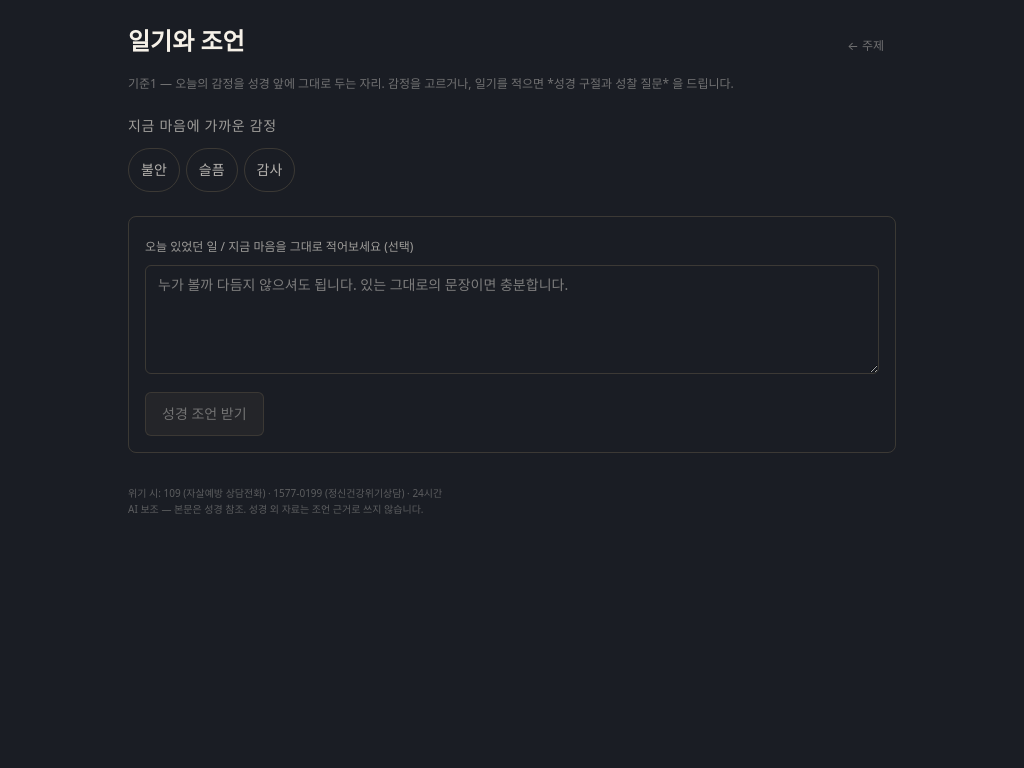
Test case: /topics/journal — R1 위기 라우팅 › 위기로 판정되면 조언 대신 안전 안내와 상담 번호를 먼저 보여준다
Type "다 그만두고 싶다" into the text box at [512, 320], box [145,265,879,374]
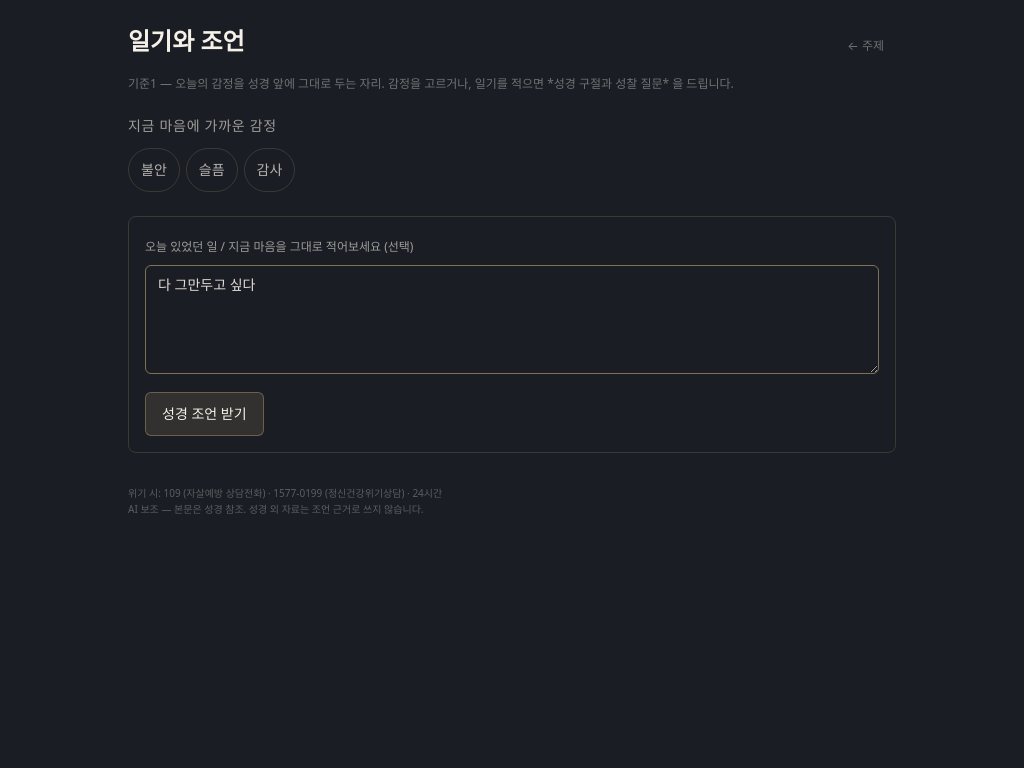
Click the button "성경 조언 받기" at [204, 414], box [145,392,264,436]
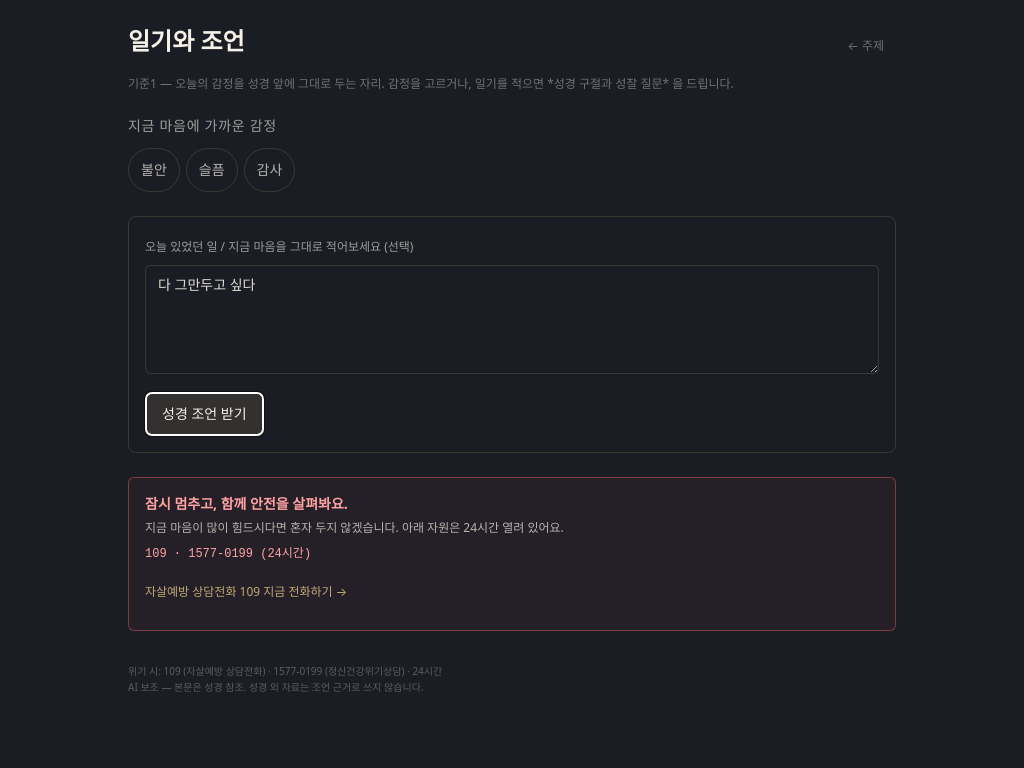
Result: the text "잠시 멈추고, 함께 안전을 살펴봐요." is shown at [145,494,348,513]
Result: the text "109 · 1577-0199 (24시간)" is shown at [145,546,311,560]
